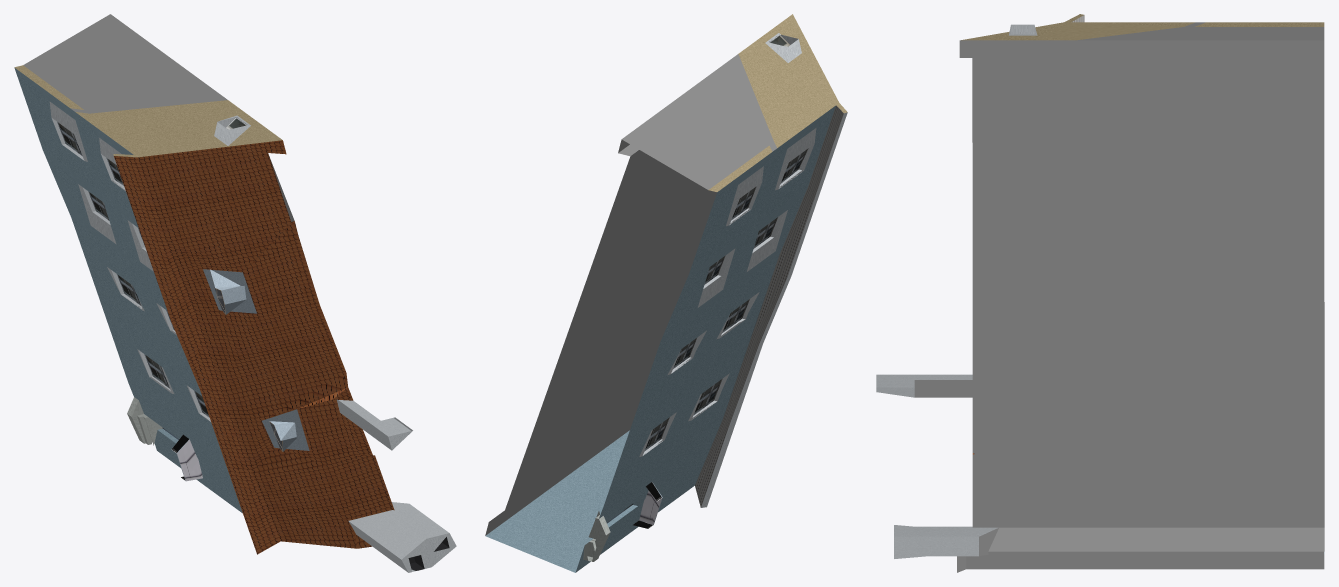
File: Myyrivahe_62-origo.obj
3 views of the same model, side by side, from view 1: azimuth 30°, elevation 25°; view 2: azimuth 150°, elevation 25°; view 3: azimuth 270°, elevation 25° (orthographic). The views are drawn at different scales.
Parts seen in each view (by area): view 1: Myyrivahe_62, xxx; view 2: Myyrivahe_62, xxx; view 3: xxx, Myyrivahe_62.
Part boxes in pixels (bbox=[...]): Myyrivahe_62: bbox=[14, 65, 456, 572]; xxx: bbox=[23, 14, 294, 221]; Myyrivahe_62: bbox=[485, 14, 847, 572]; xxx: bbox=[485, 54, 776, 535]; xxx: bbox=[914, 22, 1324, 569]; Myyrivahe_62: bbox=[876, 14, 1324, 572].
Size of the model in its own units: 9 by 15.5 by 12.86.
